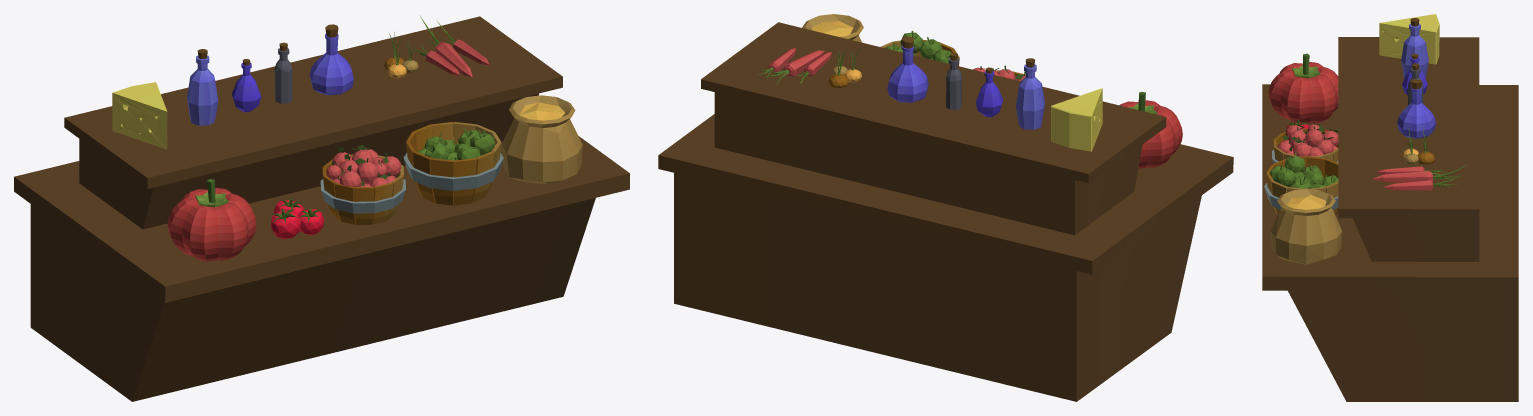
The model's file is MarketTable3.fbx.
3 renders of one model, left to right at view 1: azimuth 30°, elevation 25°; view 2: azimuth 150°, elevation 25°; view 3: azimuth 270°, elevation 25°, orthographic. The views are drawn at different scales.
Parts seen in each view (by area): view 1: MarketTable3; view 2: MarketTable3; view 3: MarketTable3.
Boxes of the visible parts, bbox=[...] form: MarketTable3: bbox=[14, 15, 629, 401]; MarketTable3: bbox=[658, 14, 1233, 401]; MarketTable3: bbox=[1262, 14, 1518, 401].
Size of the model in its own units: 212 by 128 by 119.
